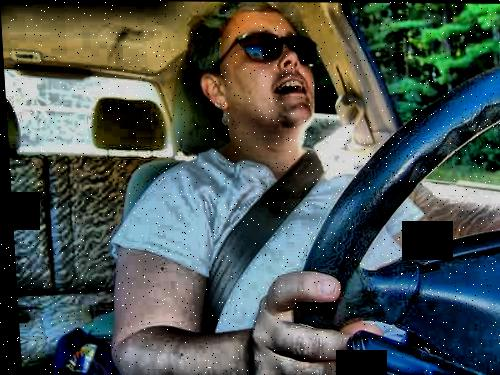seatbelt: (175, 96, 378, 296)
